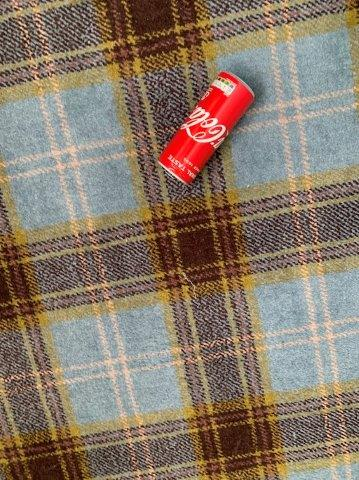kaleng: (159, 71, 254, 184)
